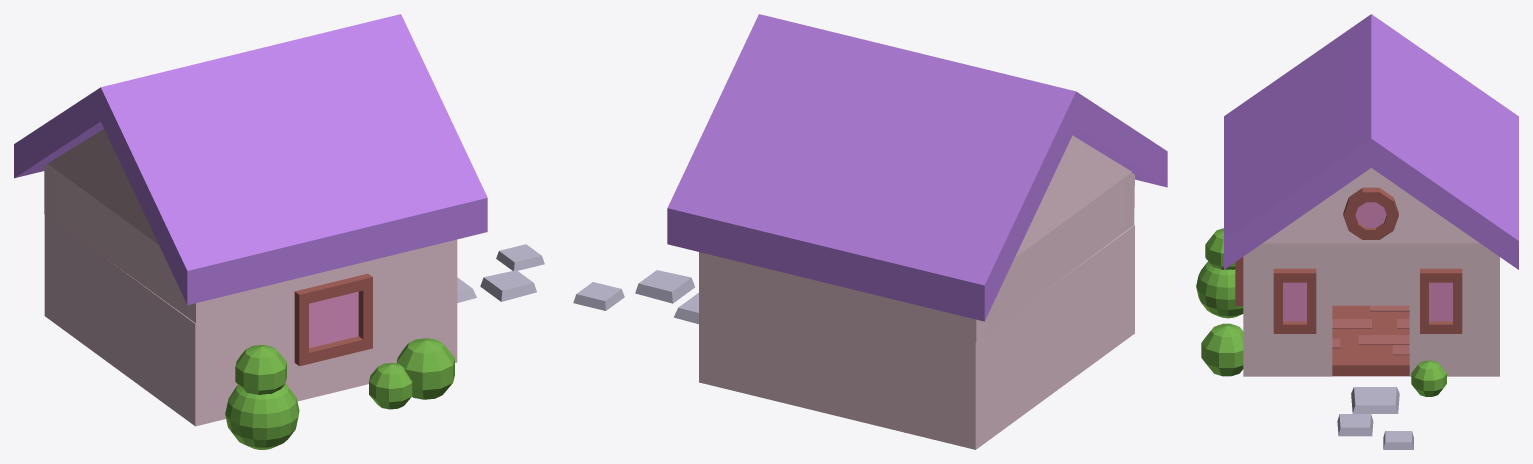
The model's file is house.fbx.
3 views of the same model, side by side, from view 1: azimuth 30°, elevation 25°; view 2: azimuth 150°, elevation 25°; view 3: azimuth 270°, elevation 25° (orthographic). The views are drawn at different scales.
Parts seen in each view (by area): view 1: House-Exterior, House-Interior; view 2: House-Exterior, House-Interior; view 3: House-Exterior, House-Interior.
Part boxes in pixels (<box>): House-Exterior: <box>14,14,544,449</box>; House-Interior: <box>44,215,211,426</box>; House-Exterior: <box>573,14,1167,386</box>; House-Interior: <box>716,225,1134,449</box>; House-Exterior: <box>1196,14,1518,449</box>; House-Interior: <box>1332,305,1409,376</box>.
Bounding box in the file's own units: 4821 × 3231 × 3511.
